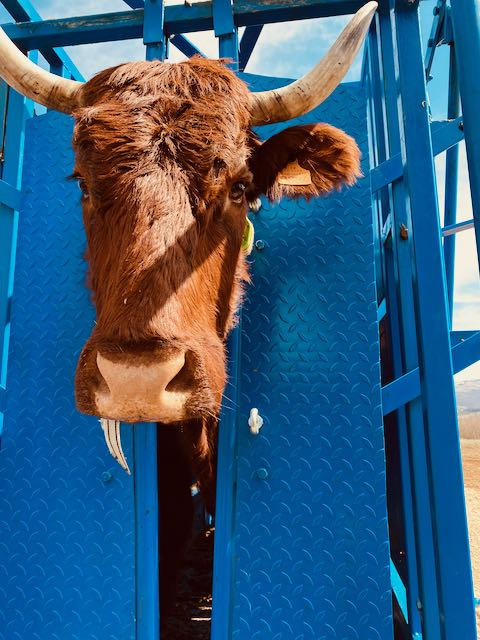muzzles: (58, 335, 245, 430)
